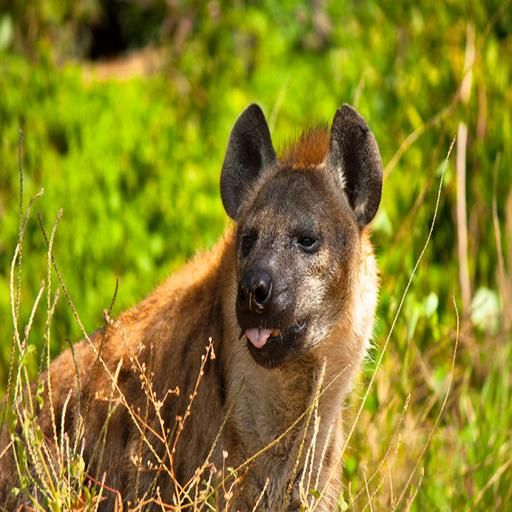Hyena: (0, 96, 389, 512)
